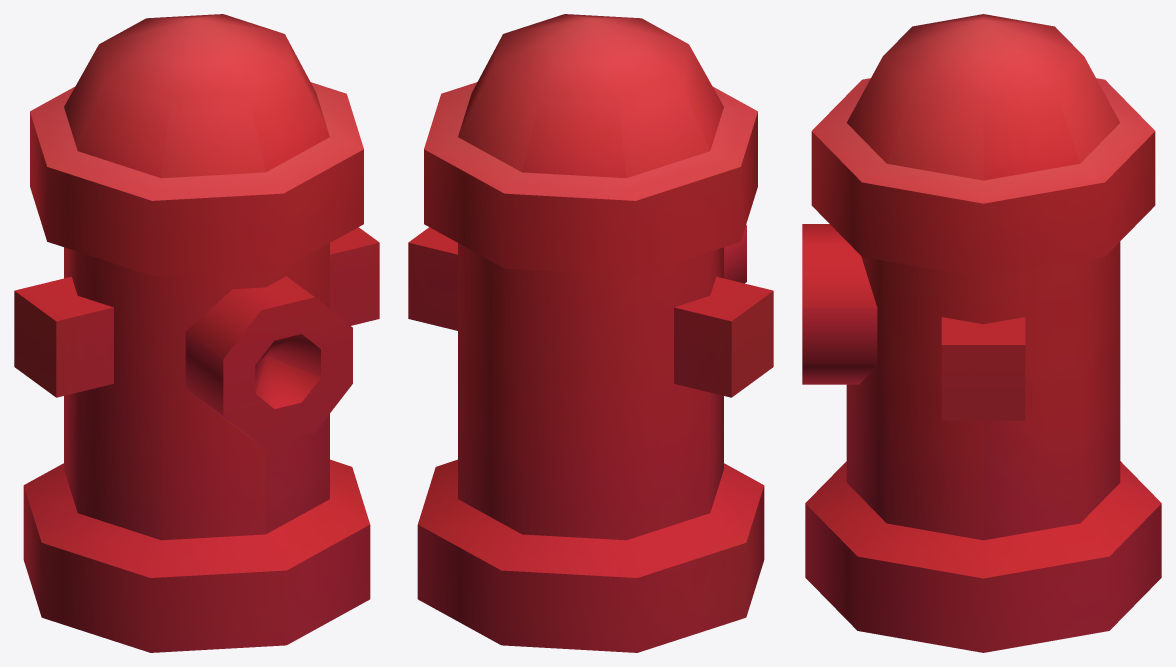
File: kay-hidrante.gltf
The picture shows the model from 3 angles, left to right: view 1: azimuth 30°, elevation 25°; view 2: azimuth 150°, elevation 25°; view 3: azimuth 270°, elevation 25°; orthographic projection.
Parts seen in each view (by area): view 1: firehydrant; view 2: firehydrant; view 3: firehydrant.
Boxes of the visible parts, box(x1,y1,x2,y2) form: firehydrant: box(14, 14, 379, 652); firehydrant: box(408, 14, 773, 652); firehydrant: box(802, 14, 1161, 652).
Bounding box in the file's own units: 0.6775 × 1.12 × 0.6566.
1 material, 1 textured.
